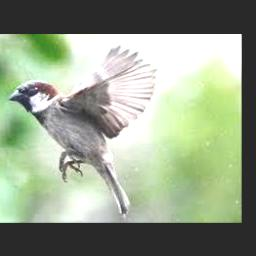Sparrow: (9, 43, 159, 216)
